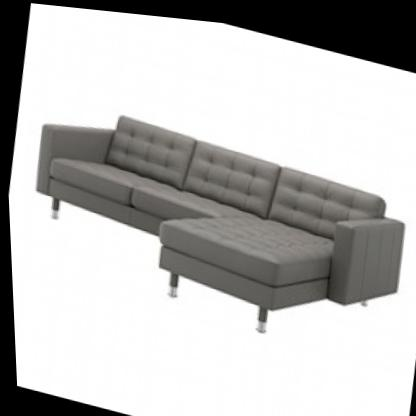Sofa: (11, 81, 416, 364)
